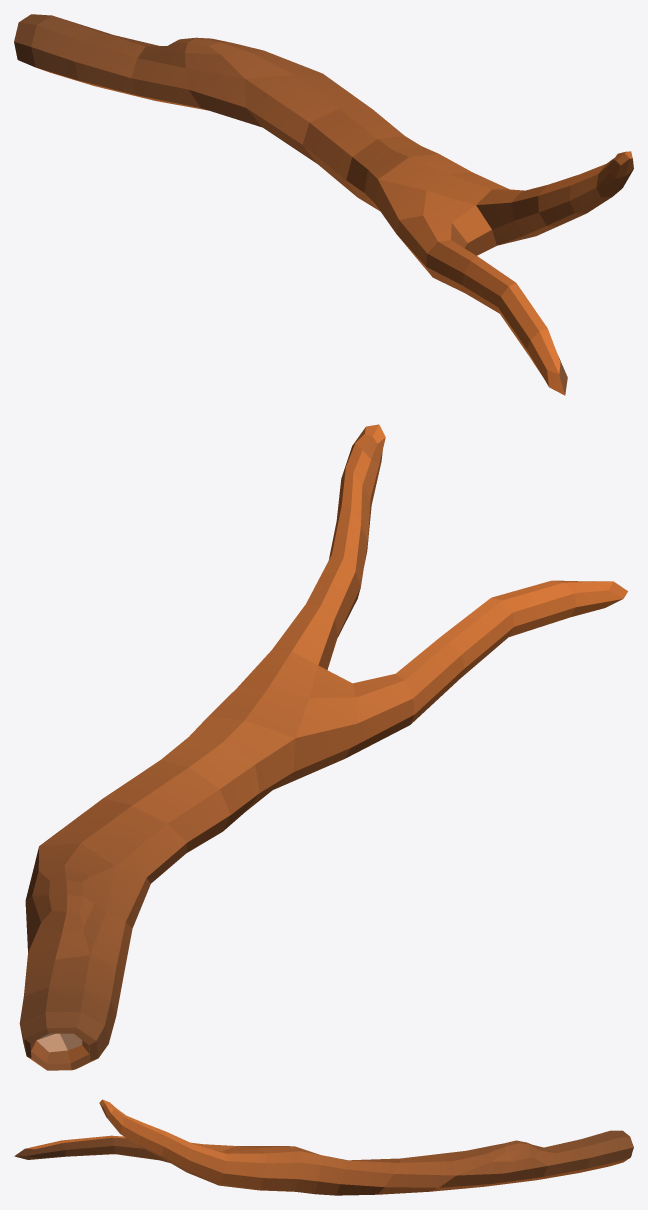
Rendered from Water_Log2.fbx.
3 renders of one model, top to bottom at view 1: azimuth 30°, elevation 25°; view 2: azimuth 150°, elevation 25°; view 3: azimuth 270°, elevation 25°, orthographic. The views are drawn at different scales.
Parts seen in each view (by area): view 1: Log_2; view 2: Log_2; view 3: Log_2.
Boxes of the visible parts, x1=… form: Log_2: x1=14, y1=14, x2=633, y2=395; Log_2: x1=19, y1=424, x2=627, y2=1070; Log_2: x1=14, y1=1099, x2=633, y2=1195.
Bounding box in the file's own units: 89.1 × 75.51 × 384.
1 material, 1 textured.
